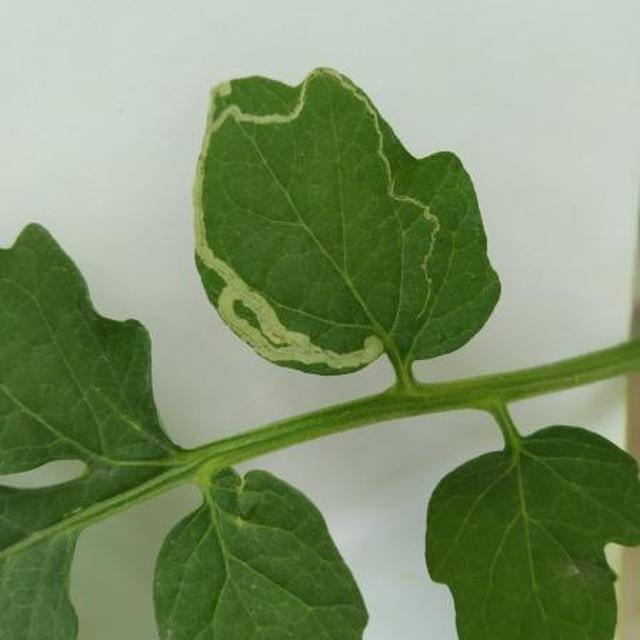Leaf Miner: (270, 99, 640, 539)
